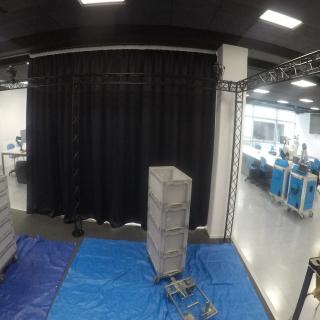Box4G: (149, 211, 192, 258), (148, 167, 194, 210), (148, 231, 189, 279), (148, 190, 193, 233)
